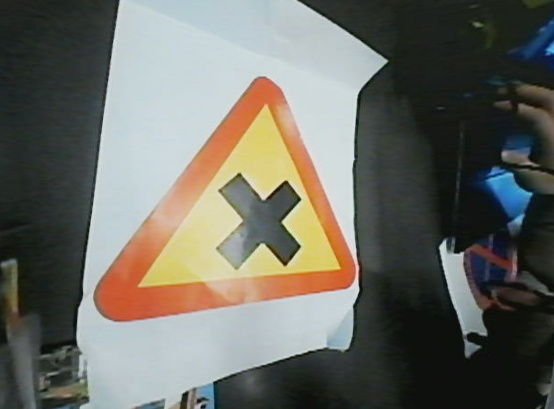junction: (40, 60, 389, 319)
